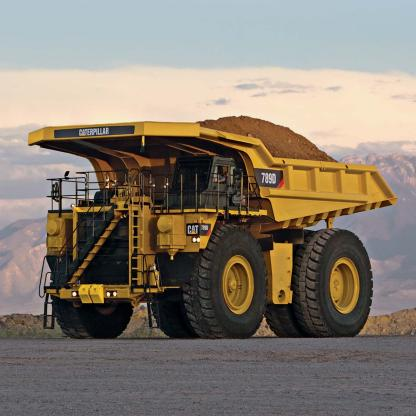dump_truck: (25, 111, 402, 341)
